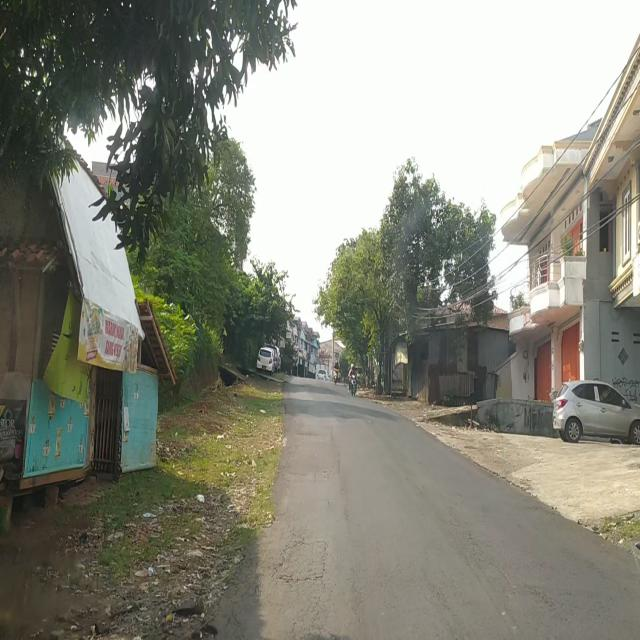Drain Hole: (272, 520, 333, 640)
